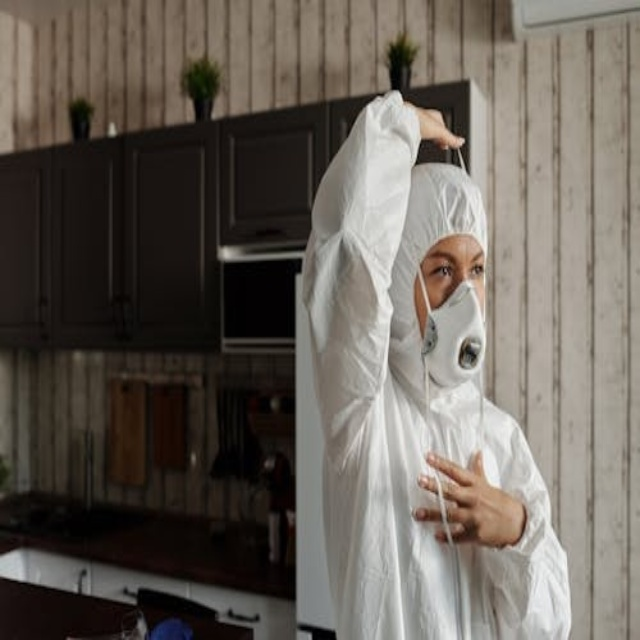Mascara: (419, 267, 486, 391)
Sin_gafas: (422, 247, 488, 280)
Sin_guantes: (413, 446, 524, 552)
